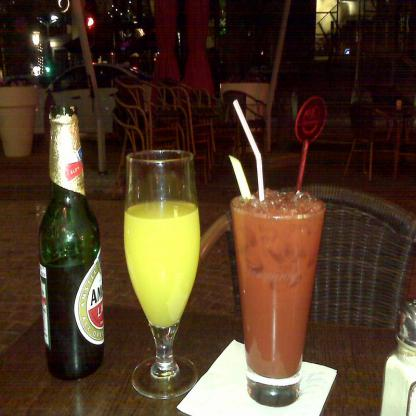drinking: (40, 105, 104, 381)
